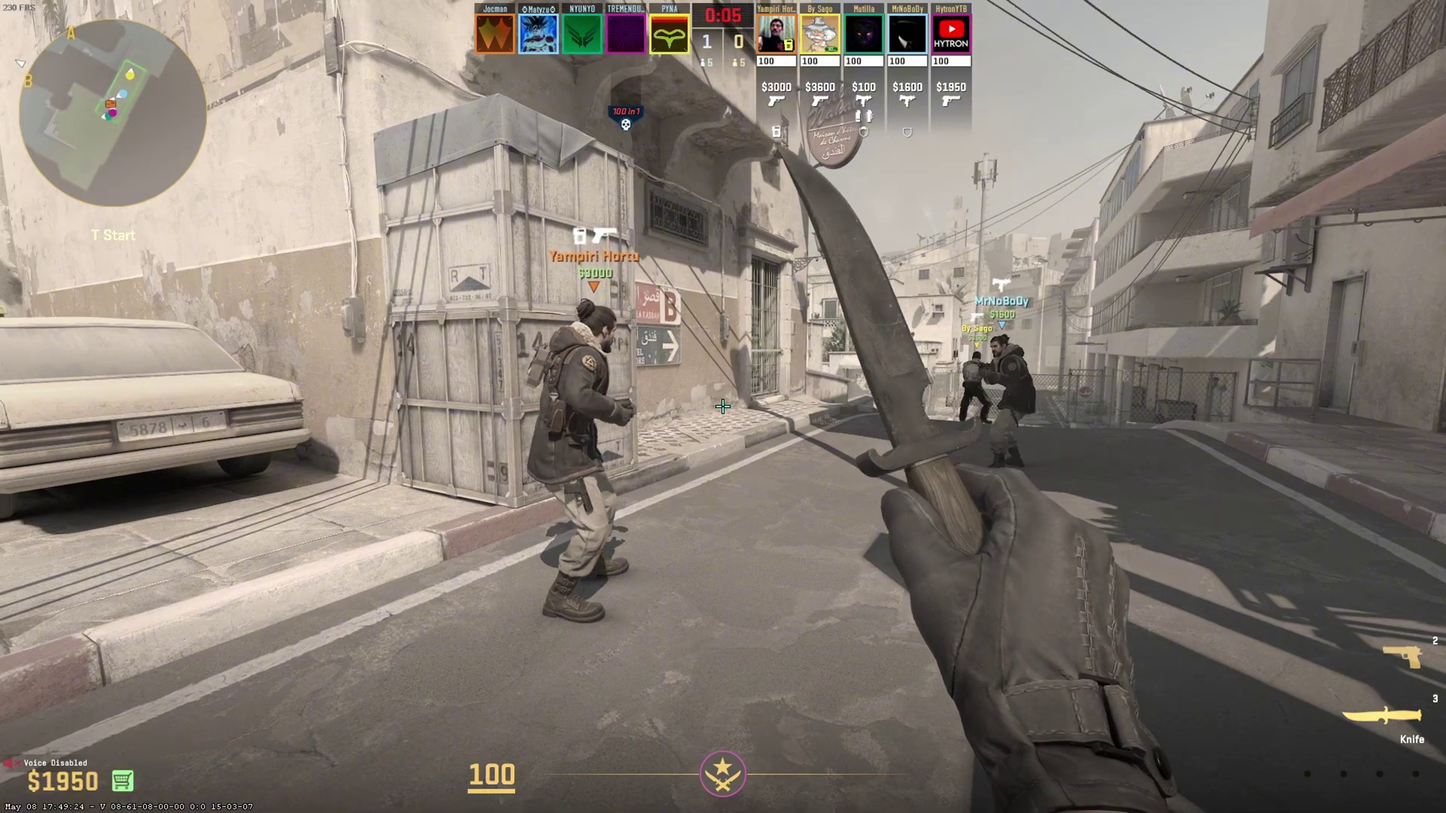Terrorist: (541, 298, 632, 627), (989, 334, 1035, 469), (959, 352, 990, 422)
